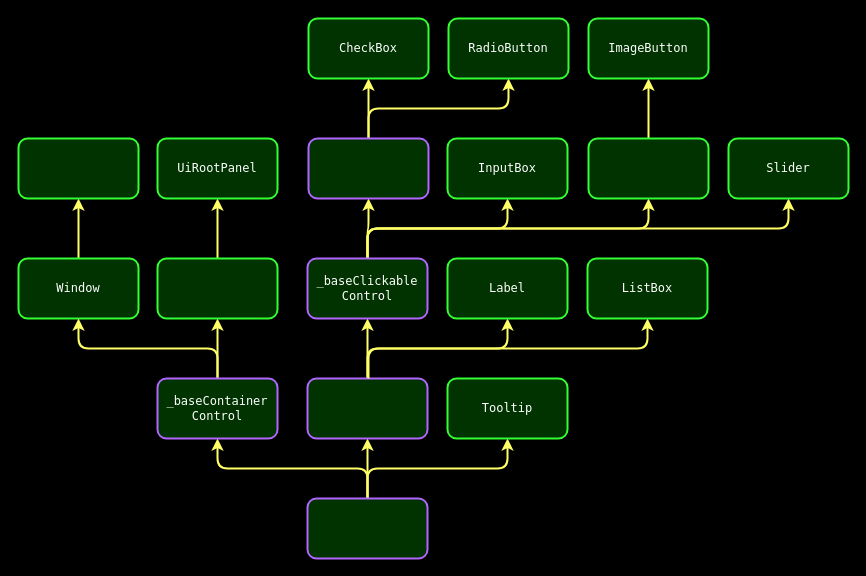
Image size: 866x576. Some labels were removed from this diagram. Each missing label, with the box of its shape:
_baseCheckable Control: (307, 137, 429, 199)
_baseControl: (306, 497, 428, 559)
_baseControl WithTooltip: (306, 377, 428, 439)
MessageBox Window: (17, 137, 139, 199)
Panel: (156, 257, 278, 319)
TextButton: (587, 137, 709, 199)
